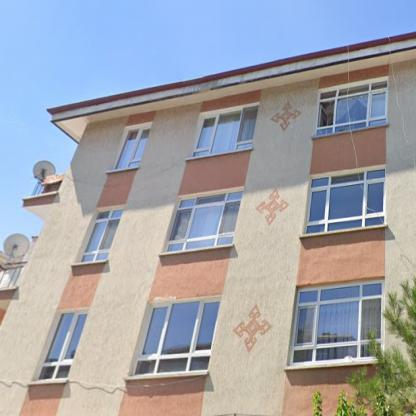window: (289, 281, 384, 364), (132, 298, 221, 376), (304, 168, 386, 234), (165, 189, 244, 253), (315, 79, 387, 137), (191, 104, 259, 158), (36, 312, 88, 380), (79, 208, 123, 263), (114, 126, 151, 170)
